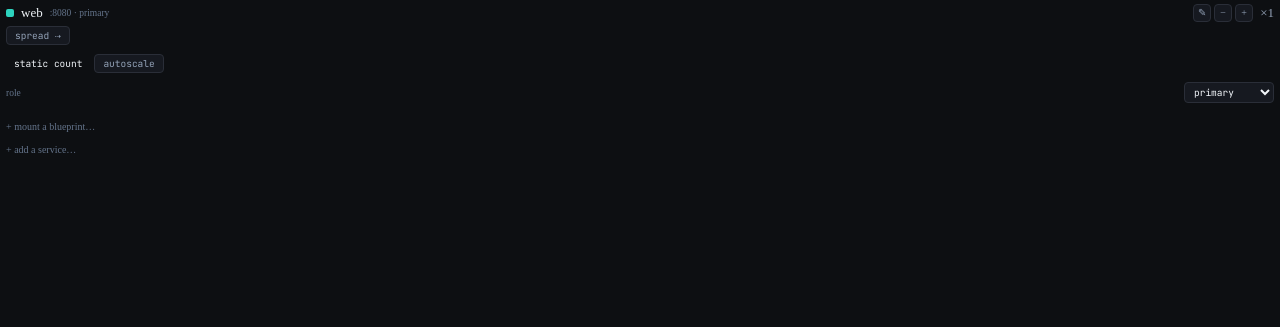
Test case: ServicesDrawer — authoring the AutoscalePolicy (FEAT-008 Task 21) › the chip defaults to "static count" and toggling "autoscale" reveals the policy fields with sane defaults
Click the button "autoscale" at (129, 64), box [94,54,164,73]
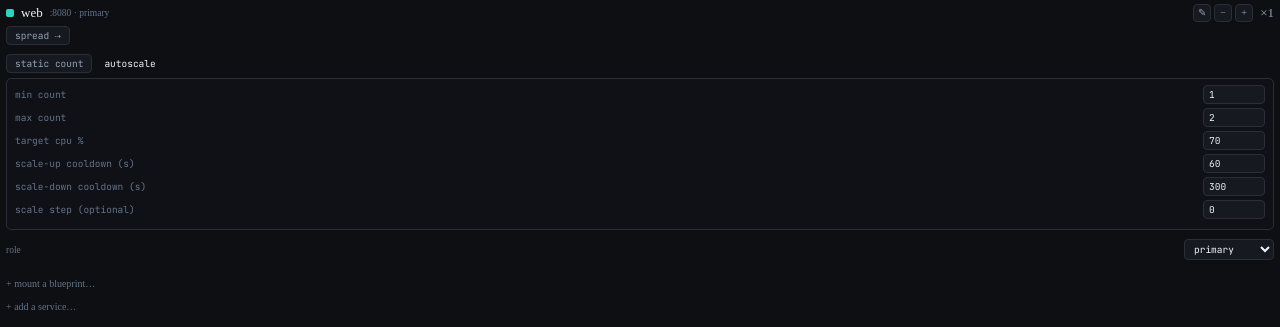
Now the element with test id "autoscale-fields" is shown, box [6,78,1274,230]
